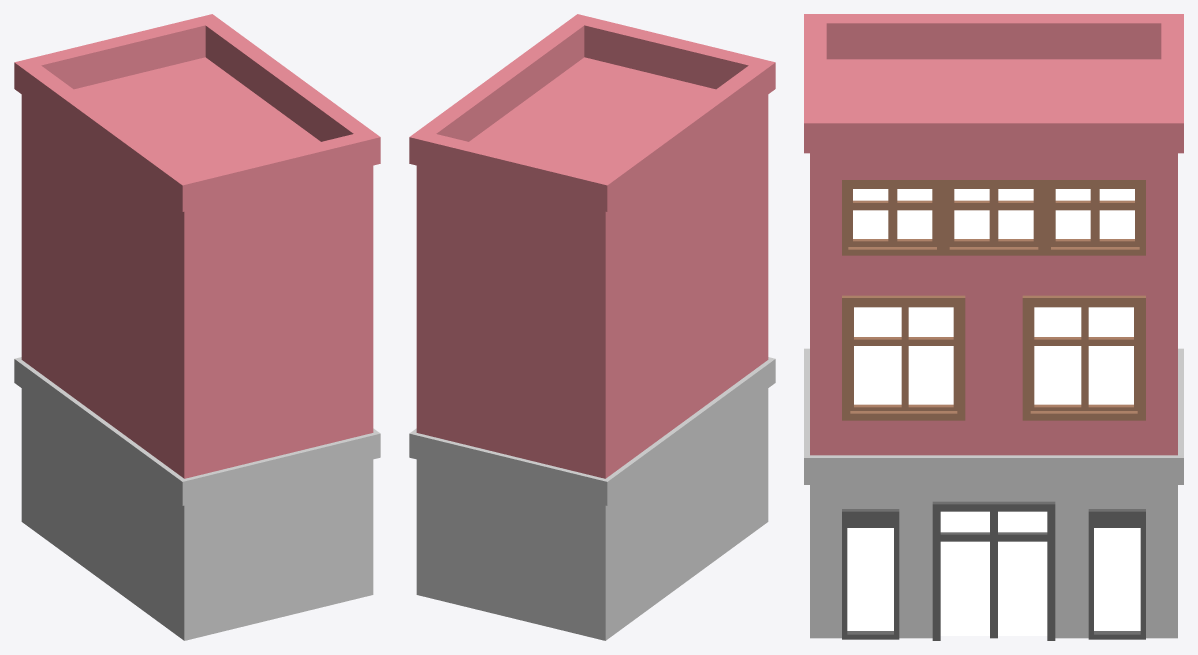
Rendered from House 5.5.fbx.
The picture shows the model from 3 angles, left to right: view 1: azimuth 30°, elevation 25°; view 2: azimuth 150°, elevation 25°; view 3: azimuth 270°, elevation 25°; orthographic projection. The views are drawn at different scales.
Parts seen in each view (by area): view 1: House 5.006; view 2: House 5.006; view 3: House 5.006.
Part boxes in pixels (x1,y1,x2,y2): House 5.006: (14, 14, 380, 640); House 5.006: (409, 14, 775, 640); House 5.006: (804, 14, 1183, 640).
Size of the model in its own units: 869 by 1923 by 1279.
